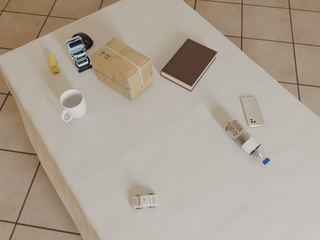book: (161, 39, 217, 91)
bottle: (224, 119, 270, 165)
box: (91, 38, 154, 100)
cup: (60, 89, 86, 122)
mouse: (72, 32, 93, 50)
phone: (65, 36, 91, 70), (241, 98, 265, 127)
toy_car: (132, 194, 158, 210), (48, 54, 59, 73)
